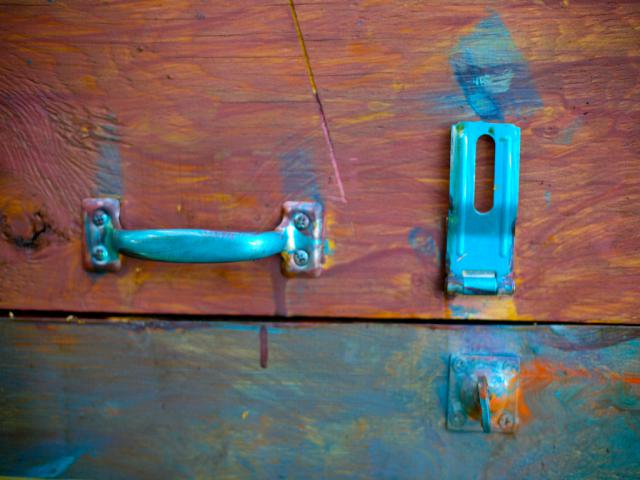Door-handle: (81, 197, 322, 278)
